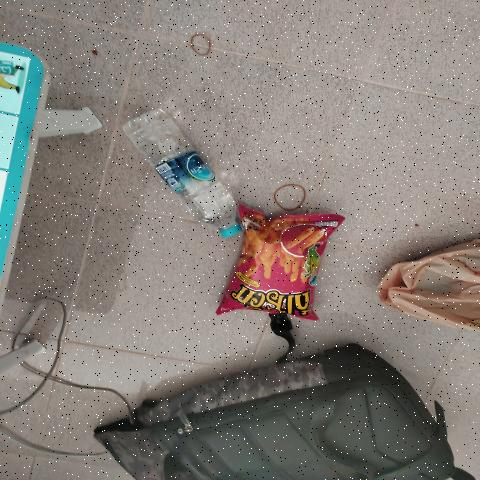crystal: (170, 158, 202, 192)
twisco: (236, 217, 326, 313)
